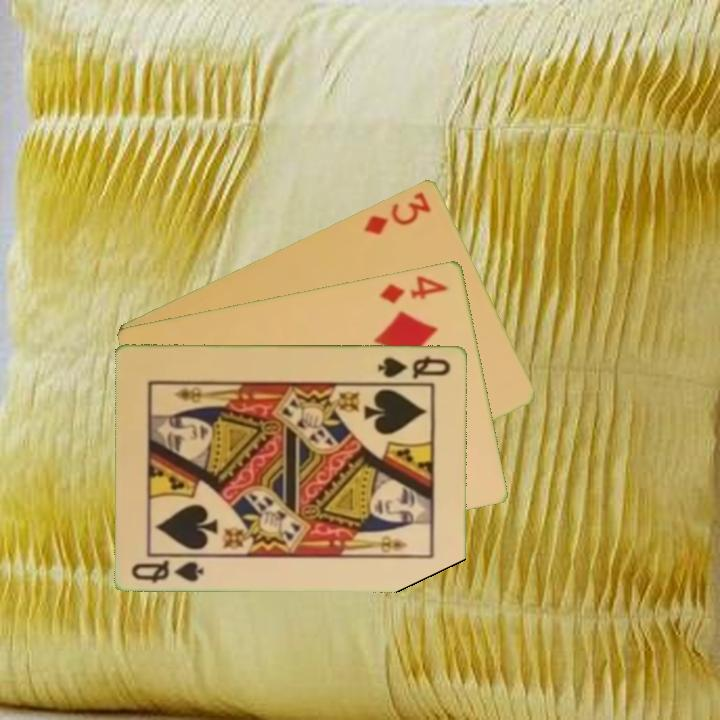3d: (361, 187, 434, 238)
4d: (376, 271, 450, 307)
Qs: (129, 552, 209, 585), (375, 351, 454, 381)
